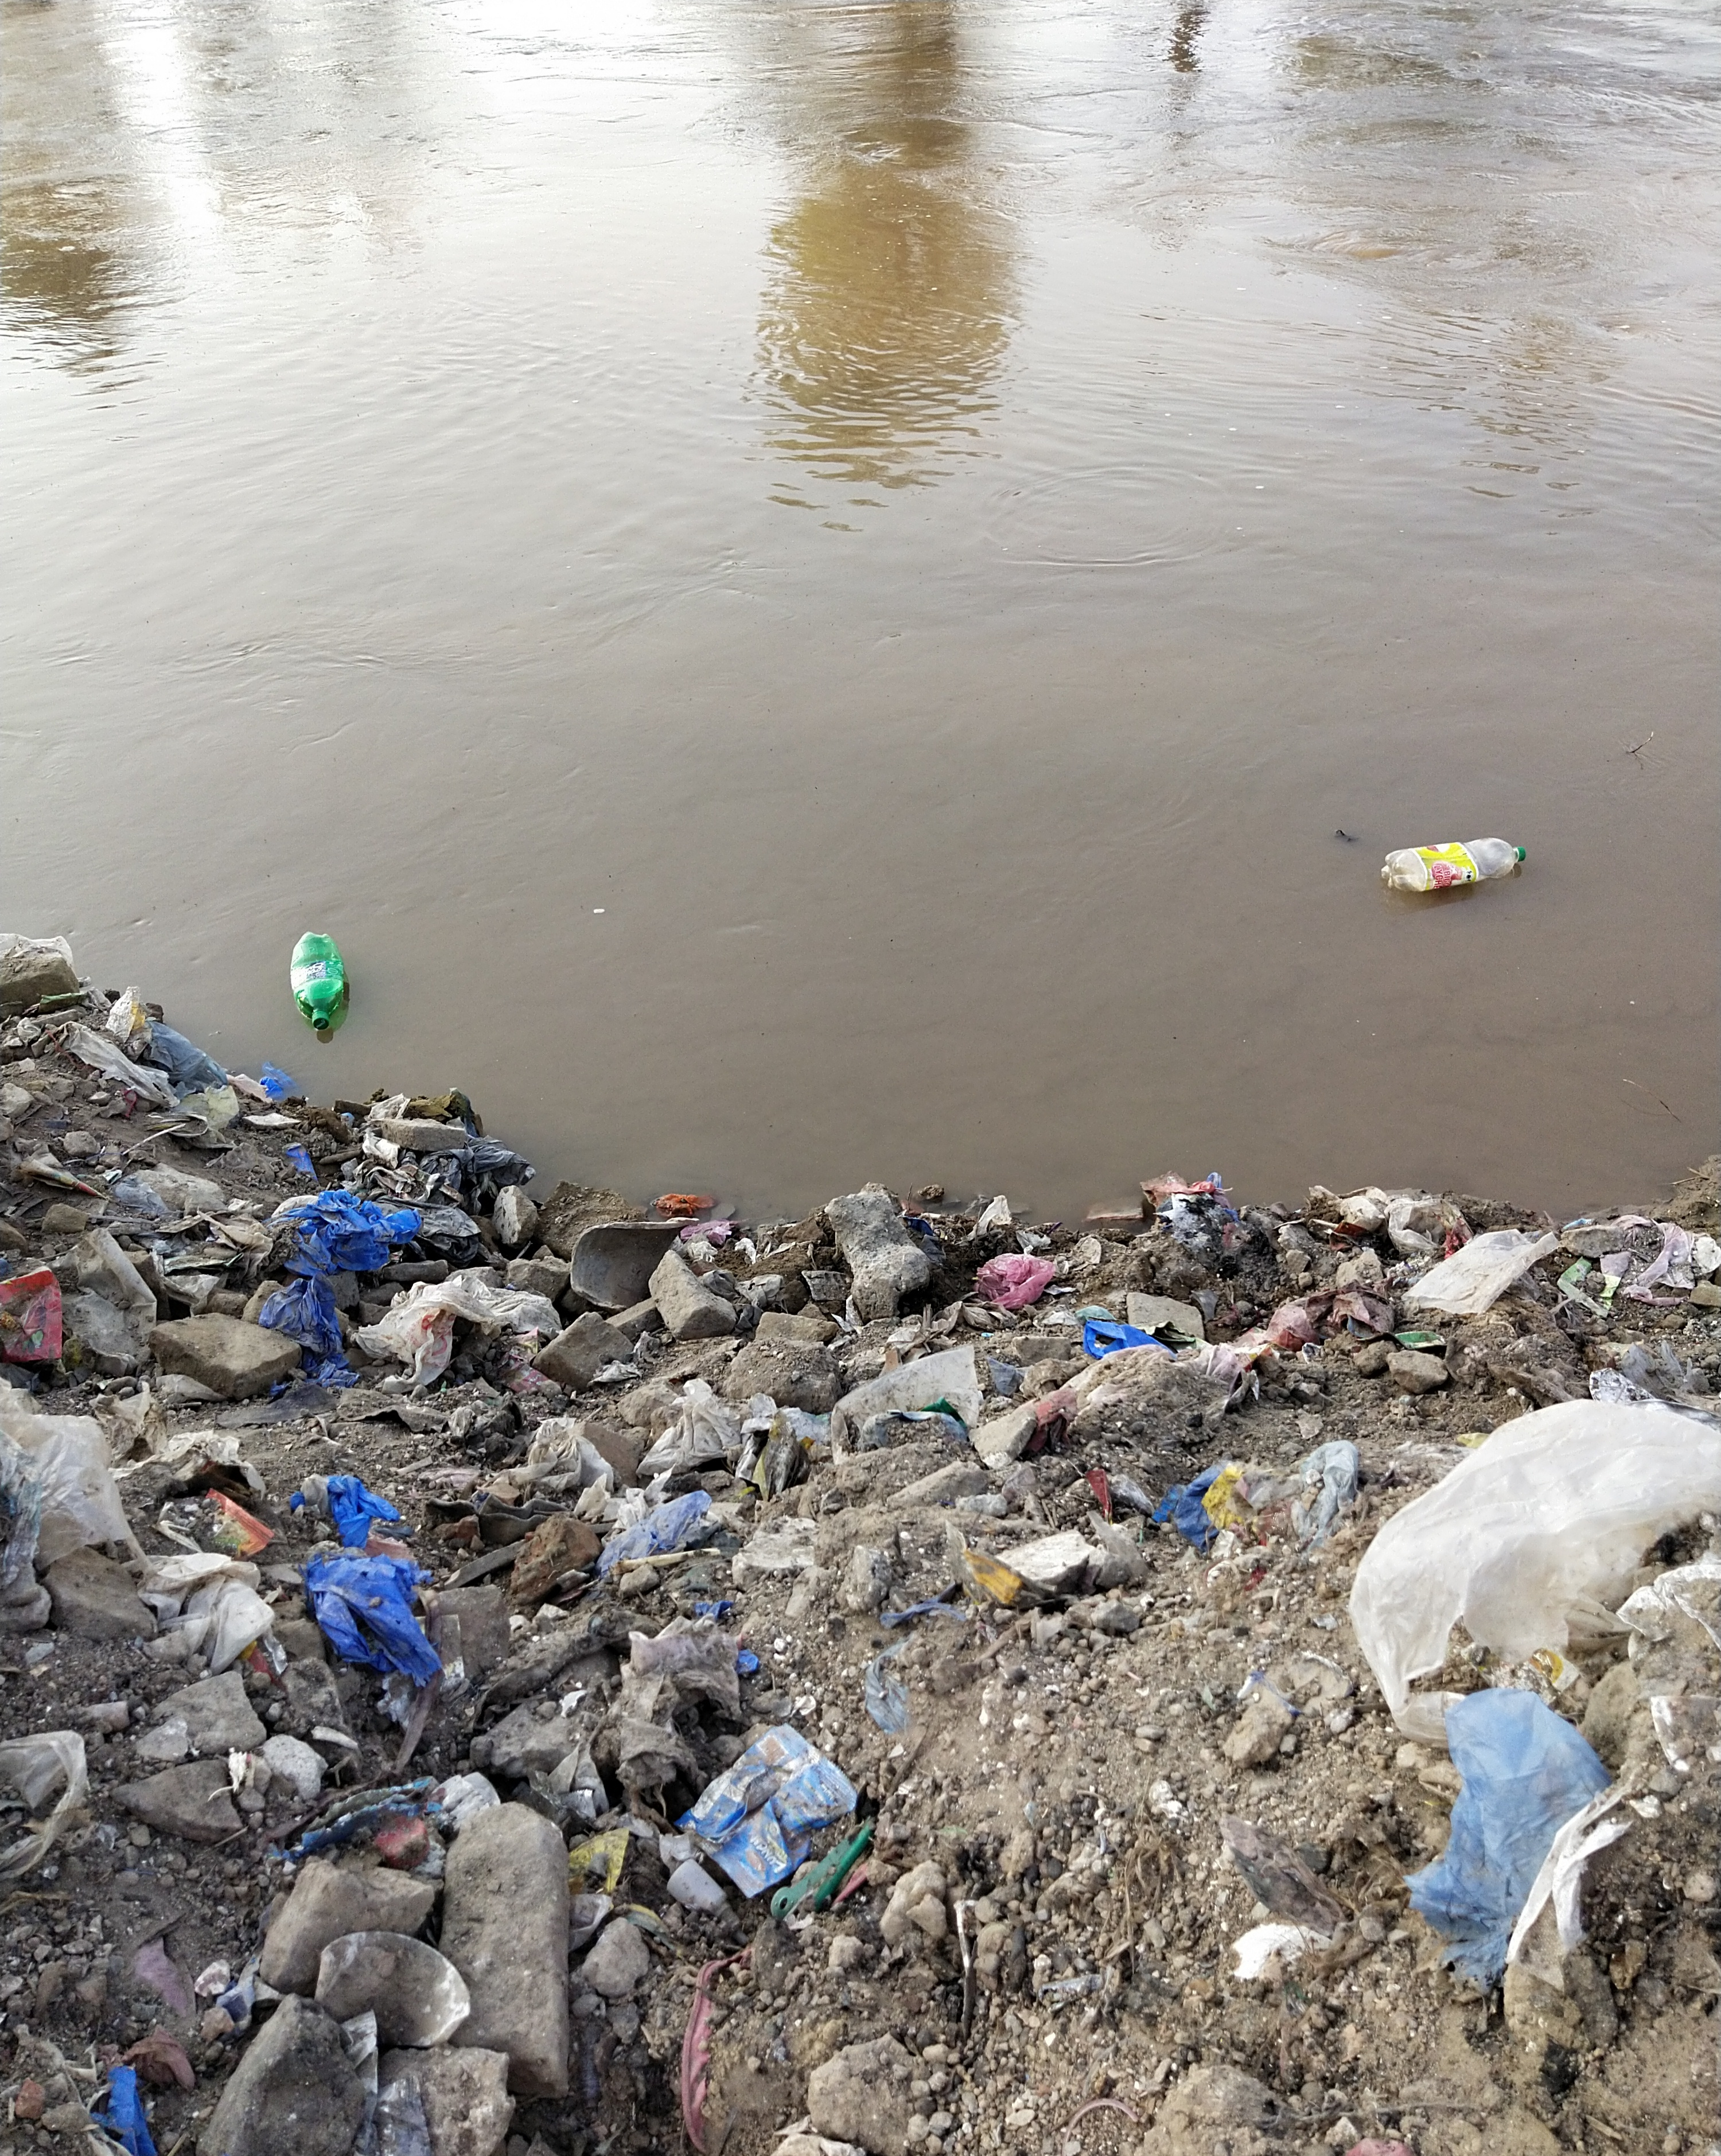Plastic Bottle: (1382, 837, 1526, 892), (290, 931, 344, 1031)
